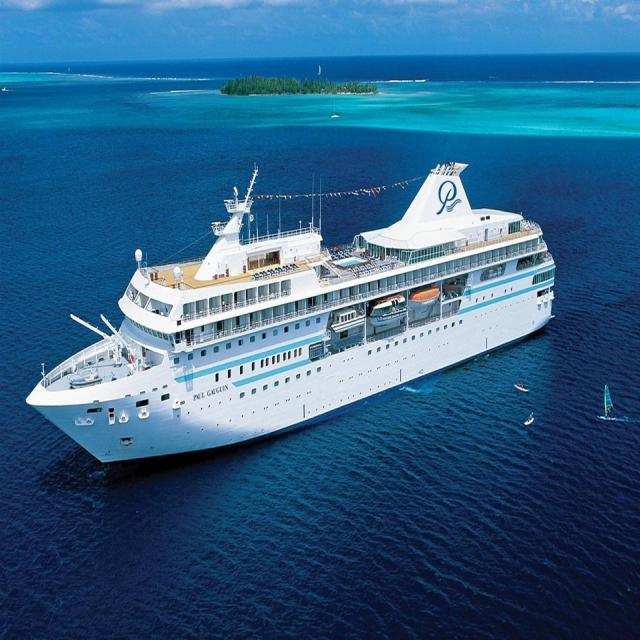PassengerShip: (25, 138, 559, 464)
